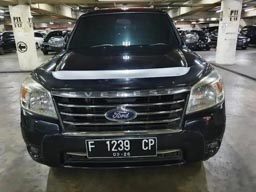plat: (85, 139, 155, 150)
